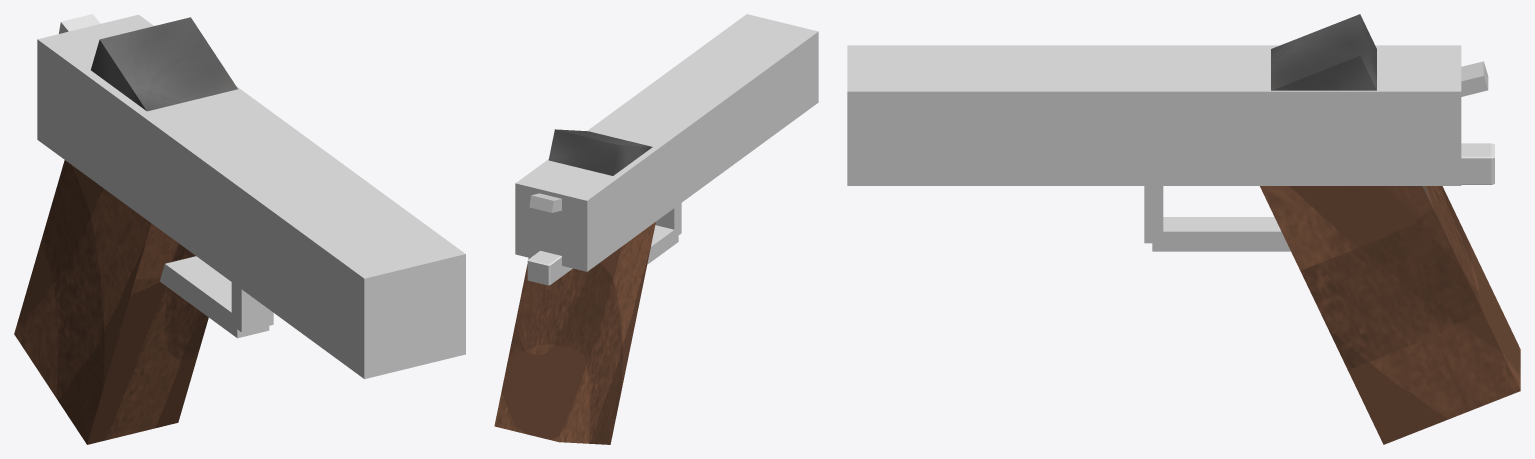
3 views of the same model, side by side, from view 1: azimuth 30°, elevation 25°; view 2: azimuth 150°, elevation 25°; view 3: azimuth 270°, elevation 25° (orthographic). The views are drawn at different scales.
Parts seen in each view (by area): view 1: Main, Grip, Detail.001, Detail, Detail.003; view 2: Main, Grip, Detail.002, Detail.001, Detail.003, Detail; view 3: Main, Grip, Detail.001, Detail.002, Detail, Detail.003.
Boxes of the visible parts, x1,y1,x2,y2 form: Main: [37, 14, 465, 379]; Grip: [14, 17, 237, 444]; Detail.001: [159, 256, 269, 338]; Detail: [231, 282, 273, 332]; Detail.003: [59, 14, 100, 33]; Main: [515, 14, 818, 271]; Grip: [494, 129, 655, 444]; Detail.002: [527, 251, 572, 285]; Detail.001: [647, 225, 678, 264]; Detail.003: [529, 193, 561, 212]; Detail: [655, 203, 681, 236]; Main: [847, 45, 1461, 185]; Grip: [1260, 14, 1520, 444]; Detail.001: [1152, 217, 1290, 251]; Detail.002: [1461, 143, 1494, 184]; Detail: [1144, 186, 1163, 243]; Detail.003: [1461, 61, 1488, 96].
Size of the model in its own units: 1.1 by 4.31 by 6.76.
Materials: 6 (1 with a texture image).
